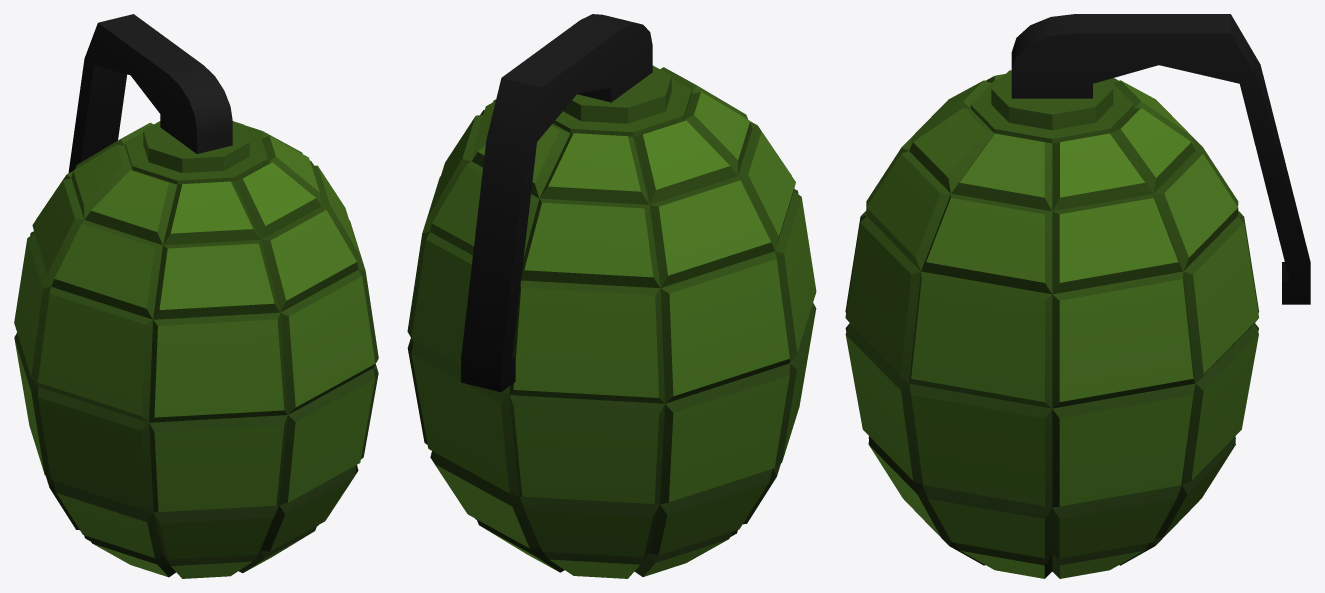
The model's file is Granade.fbx.
3 renders of one model, left to right at view 1: azimuth 30°, elevation 25°; view 2: azimuth 150°, elevation 25°; view 3: azimuth 270°, elevation 25°, orthographic. The views are drawn at different scales.
Parts seen in each view (by area): view 1: Cylinder; view 2: Cylinder; view 3: Cylinder.
Part boxes in pixels (box(x1,y1,x2,y2)): Cylinder: box(14, 14, 378, 578); Cylinder: box(407, 14, 816, 578); Cylinder: box(845, 14, 1310, 578).
Size of the model in its own units: 33.14 by 45.75 by 37.25.
Materials: 1 (1 with a texture image).
